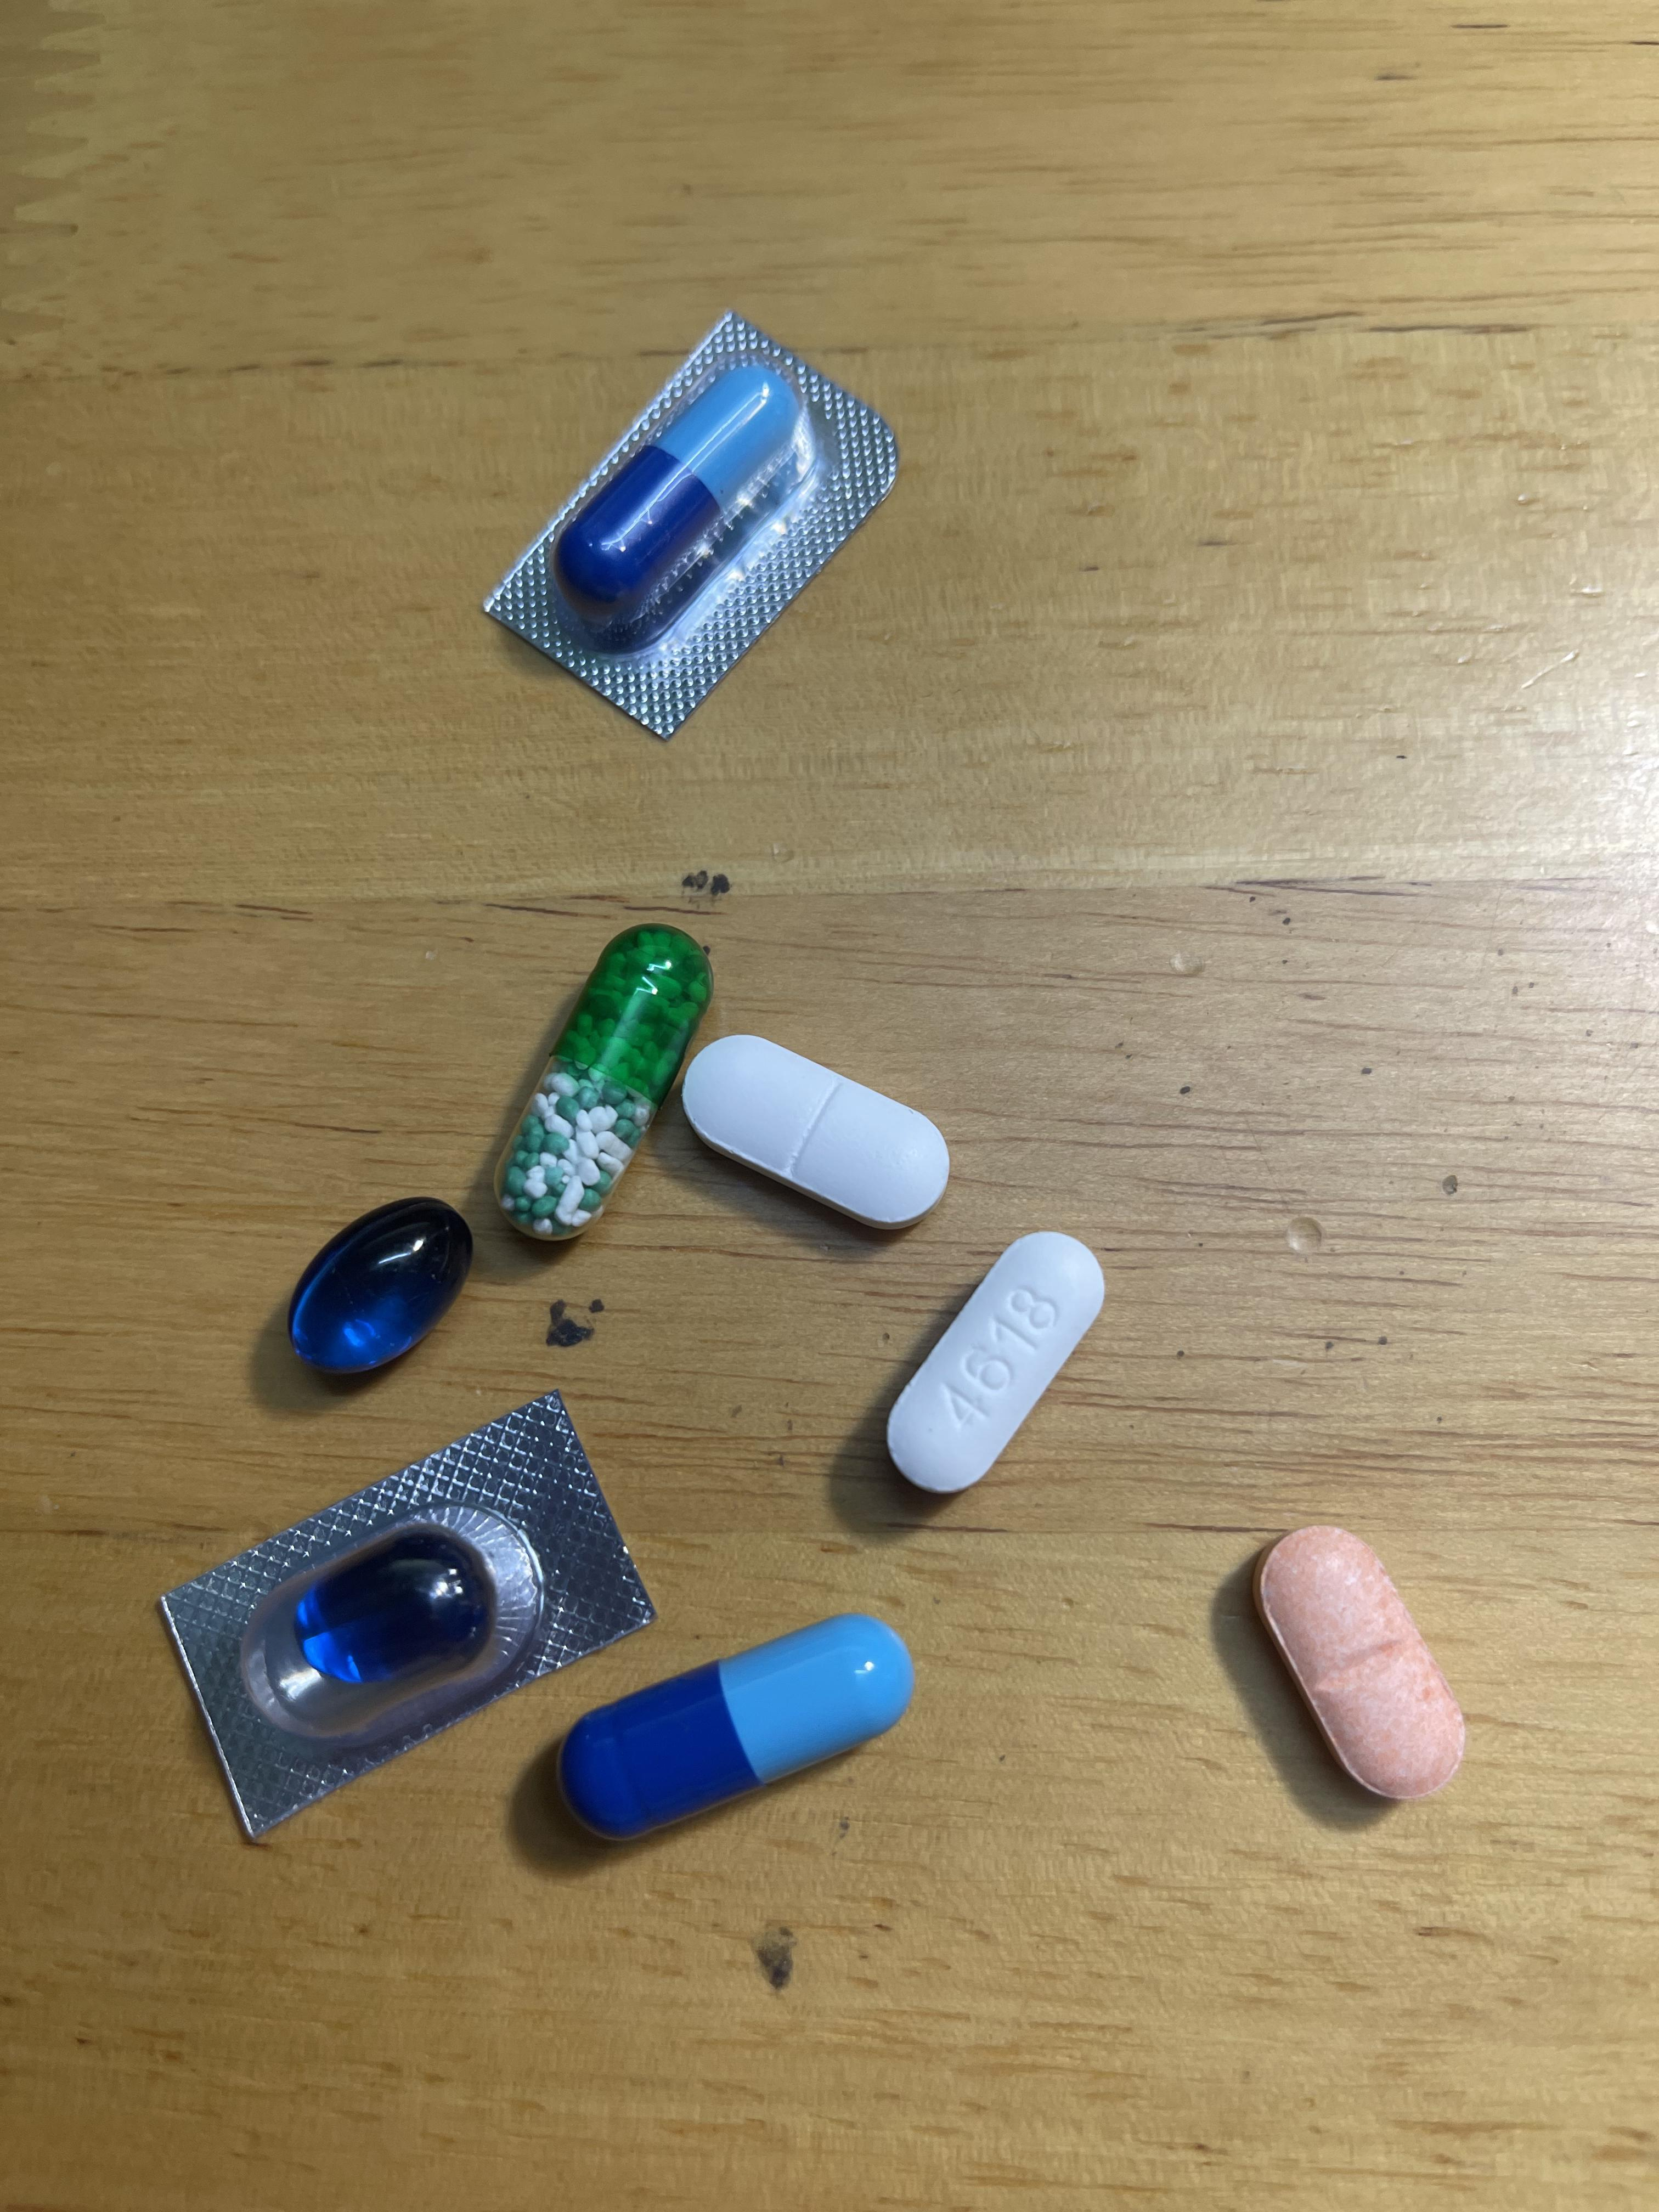Lincomyxin_500mg: (284, 1197, 476, 1374), (291, 1533, 495, 1688)
Loratadine_10mg: (1255, 1515, 1462, 1808)
Paracetamol_350mg: (680, 1031, 950, 1223)
Paracetamol_500mg: (889, 1231, 1096, 1494)
Paracetamol_650mg: (498, 930, 709, 1233)
pill: (561, 1615, 908, 1839), (566, 355, 810, 615)
